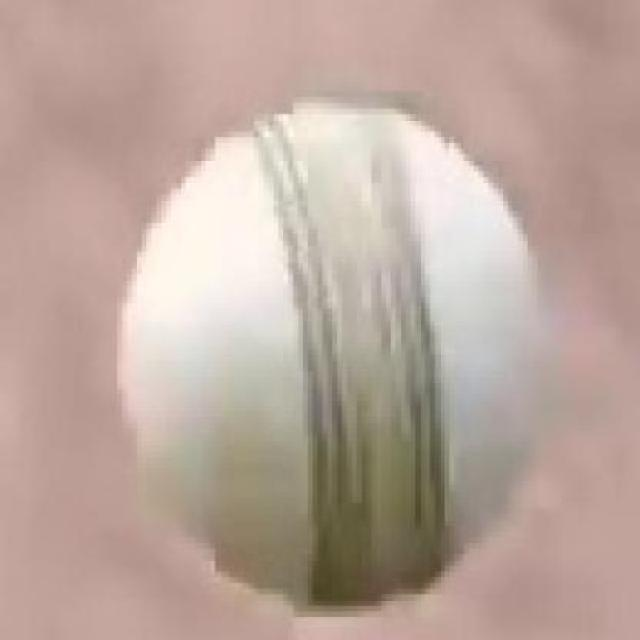Cricket ball: (111, 95, 573, 622)
